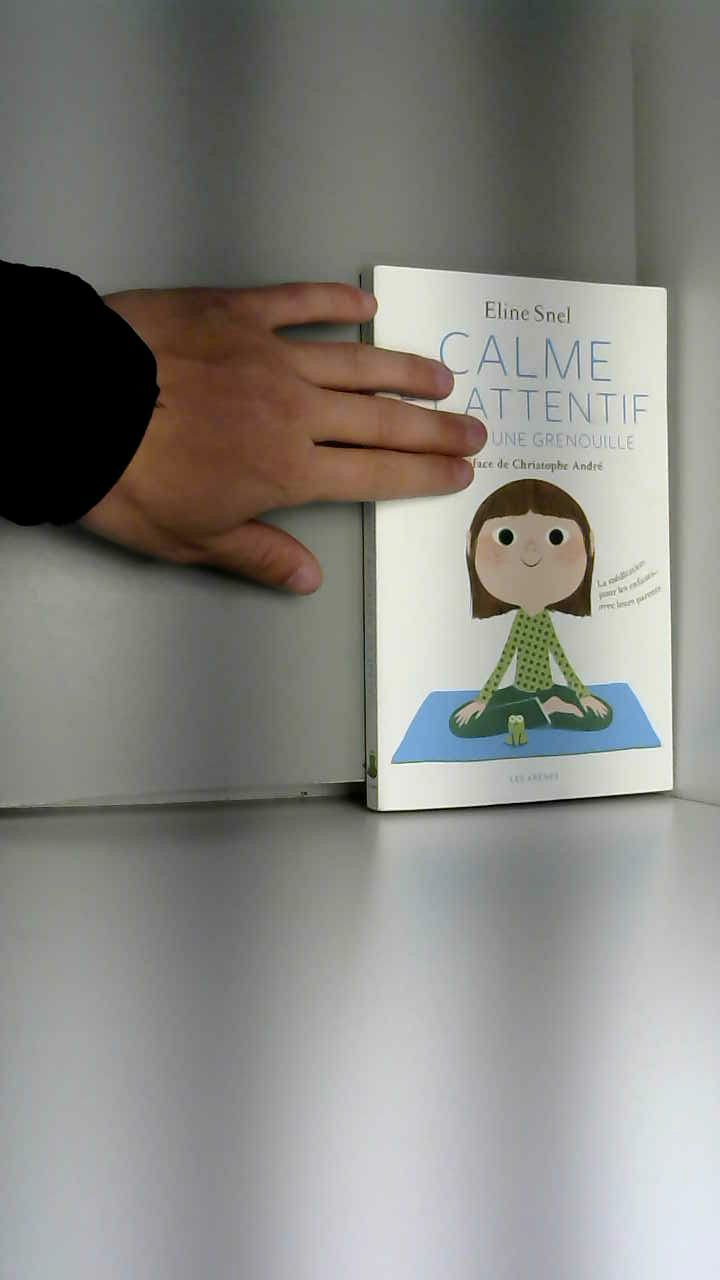book: (319, 226, 720, 860)
